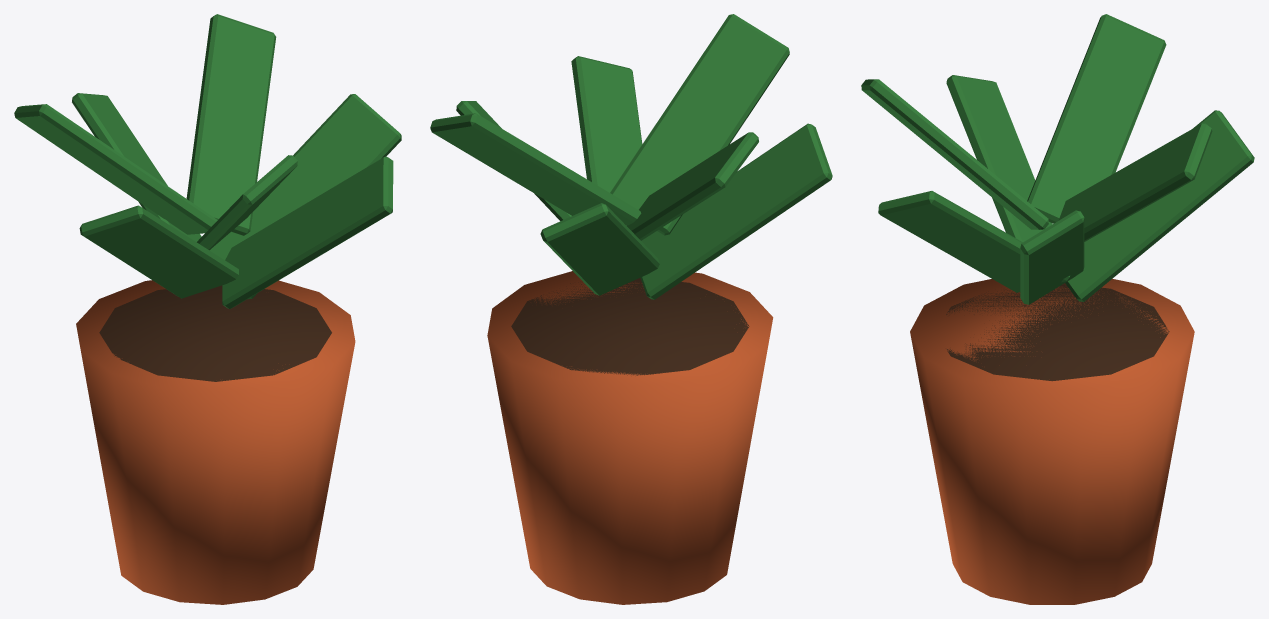
The model's file is prop_potted_plant_plastic.obj.
3 views of the same model, side by side, from view 1: azimuth 30°, elevation 25°; view 2: azimuth 150°, elevation 25°; view 3: azimuth 270°, elevation 25° (orthographic). The views are drawn at different scales.
Visible parts, largest first — view 1: Pot, Soil, Leaf_1, Leaf_6, Leaf_0, Leaf_4, Leaf_3, Leaf_2, Leaf_5; view 2: Pot, Soil, Leaf_5, Leaf_4, Leaf_1, Leaf_6, Leaf_2, Leaf_3, Leaf_0; view 3: Pot, Soil, Leaf_3, Leaf_2, Leaf_1, Leaf_6, Leaf_4, Leaf_5, Leaf_0.
Boxes of the visible parts, left/top/right/bottom form: Pot: left=76, top=280, right=355, bottom=604; Soil: left=99, top=285, right=331, bottom=381; Leaf_1: left=186, top=14, right=276, bottom=235; Leaf_6: left=222, top=156, right=393, bottom=308; Leaf_0: left=209, top=94, right=401, bottom=299; Leaf_4: left=79, top=205, right=238, bottom=298; Leaf_3: left=14, top=104, right=217, bottom=234; Leaf_2: left=72, top=93, right=201, bottom=241; Leaf_5: left=197, top=155, right=297, bottom=250; Pot: left=487, top=271, right=773, bottom=604; Soil: left=511, top=278, right=749, bottom=375; Leaf_5: left=610, top=14, right=789, bottom=235; Leaf_4: left=640, top=123, right=832, bottom=299; Leaf_1: left=430, top=113, right=641, bottom=225; Leaf_6: left=571, top=56, right=642, bottom=225; Leaf_2: left=540, top=203, right=659, bottom=295; Leaf_3: left=627, top=132, right=758, bottom=240; Leaf_0: left=456, top=101, right=571, bottom=220; Pot: left=910, top=279, right=1194, bottom=604; Soil: left=946, top=283, right=1169, bottom=381; Leaf_3: left=1027, top=14, right=1166, bottom=223; Leaf_2: left=1065, top=110, right=1254, bottom=301; Leaf_1: left=1058, top=123, right=1212, bottom=241; Leaf_6: left=878, top=191, right=1069, bottom=292; Leaf_4: left=946, top=75, right=1052, bottom=242; Leaf_5: left=861, top=79, right=1048, bottom=229; Leaf_0: left=1020, top=210, right=1084, bottom=304.
Bounding box in the file's own units: 0.5541 × 0.7409 × 0.5525.
